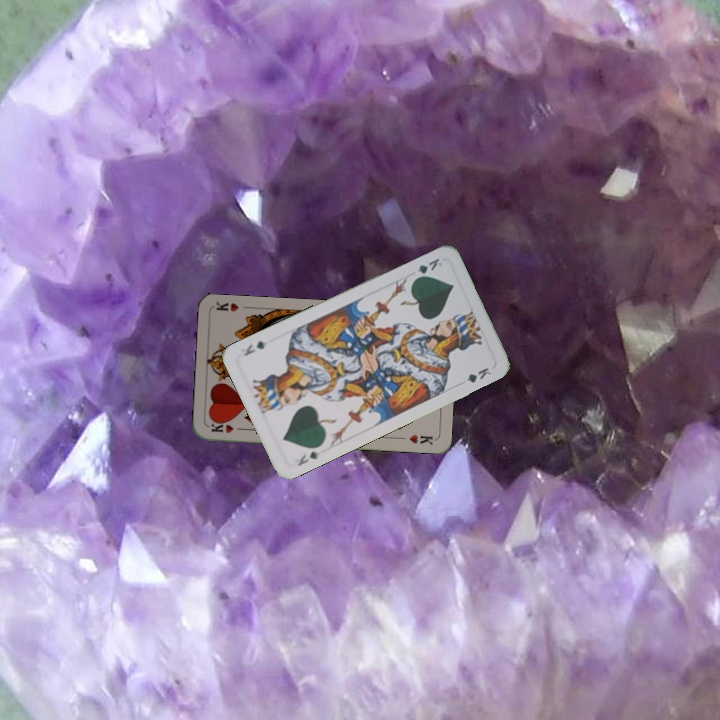GK: (409, 254, 445, 283), (294, 447, 323, 469)
HK: (207, 418, 247, 435)
